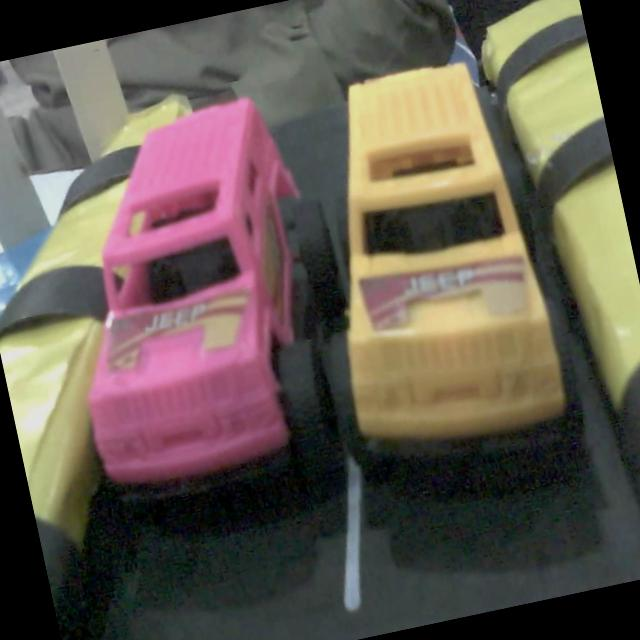TwoCar: (24, 85, 398, 592), (274, 38, 592, 509)
